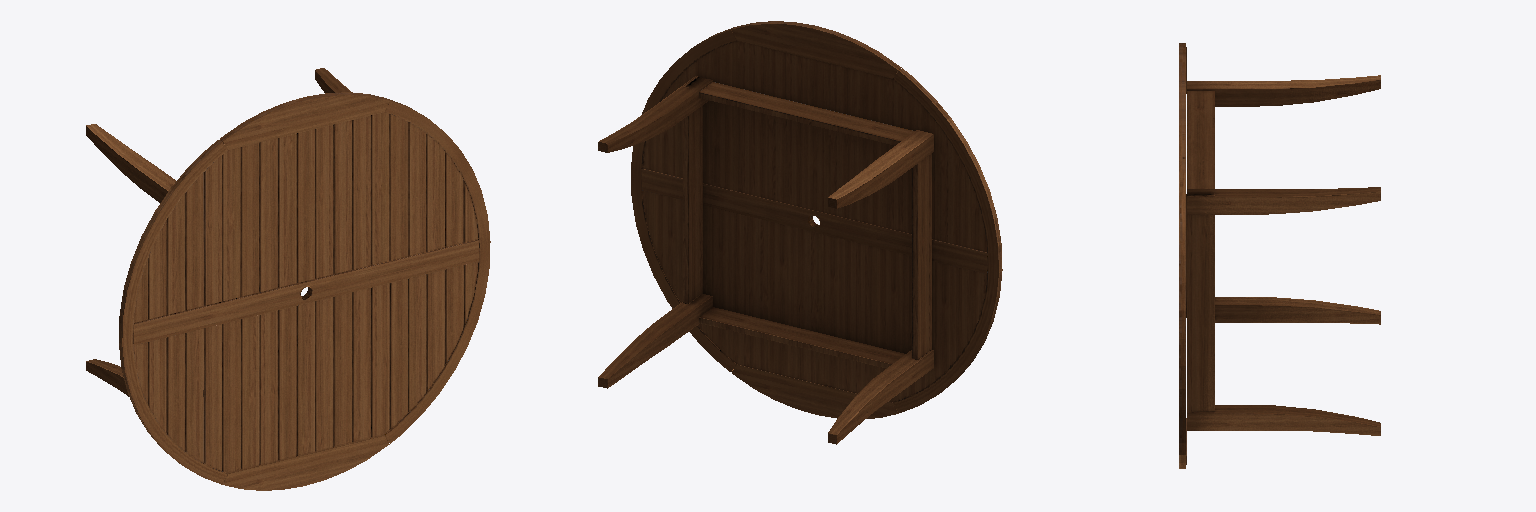
3 renders of one model, left to right at view 1: azimuth 30°, elevation 25°; view 2: azimuth 150°, elevation 25°; view 3: azimuth 270°, elevation 25°, orthographic.
Visible parts, largest first — view 1: HSM0022_Round_table_with_umbrella_Tan_v3; view 2: HSM0022_Round_table_with_umbrella_Tan_v3; view 3: HSM0022_Round_table_with_umbrella_Tan_v3.
Part boxes in pixels (x1,y1,x2,y2): HSM0022_Round_table_with_umbrella_Tan_v3: (86, 68, 490, 490); HSM0022_Round_table_with_umbrella_Tan_v3: (598, 21, 1002, 444); HSM0022_Round_table_with_umbrella_Tan_v3: (1179, 43, 1380, 468).
Size of the model in its own units: 157 by 157 by 74.98.
1 materials, 1 textured.